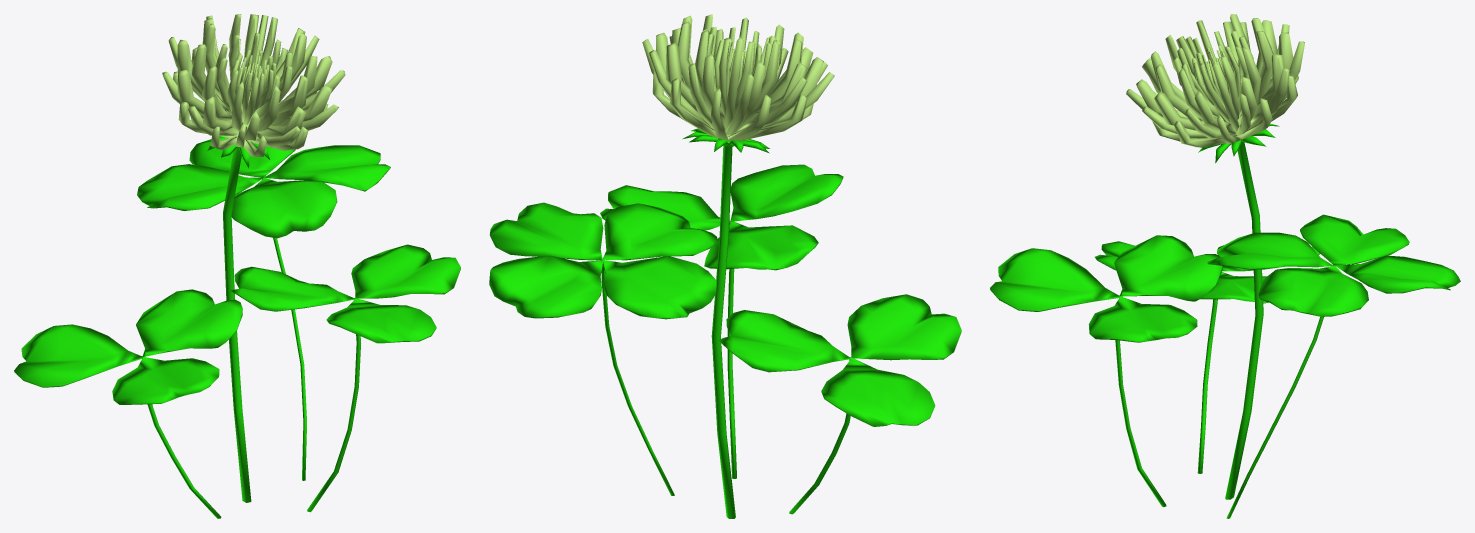
File: White_Clover_LP_2.fbx
3 views of the same model, side by side, from view 1: azimuth 30°, elevation 25°; view 2: azimuth 150°, elevation 25°; view 3: azimuth 270°, elevation 25° (orthographic). The views are drawn at different scales.
Visible parts, largest first — view 1: WhiteClover_LP_2; view 2: WhiteClover_LP_2; view 3: WhiteClover_LP_2.
Boxes of the visible parts, bbox=[...] form: WhiteClover_LP_2: bbox=[14, 14, 460, 518]; WhiteClover_LP_2: bbox=[489, 14, 961, 518]; WhiteClover_LP_2: bbox=[990, 14, 1460, 518].
Bounding box in the file's own units: 84.01 × 98.39 × 89.06.
